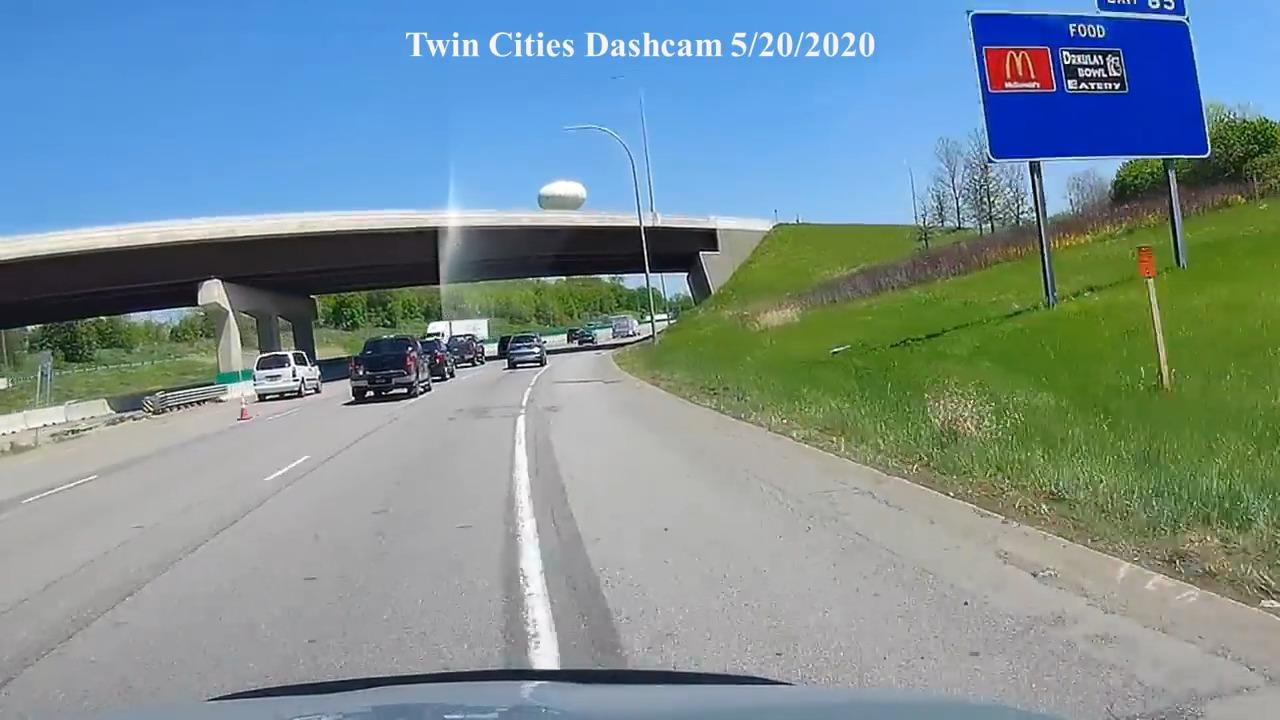car: (252, 349, 323, 402)
traffic cone: (237, 391, 253, 422), (238, 405, 252, 421)
